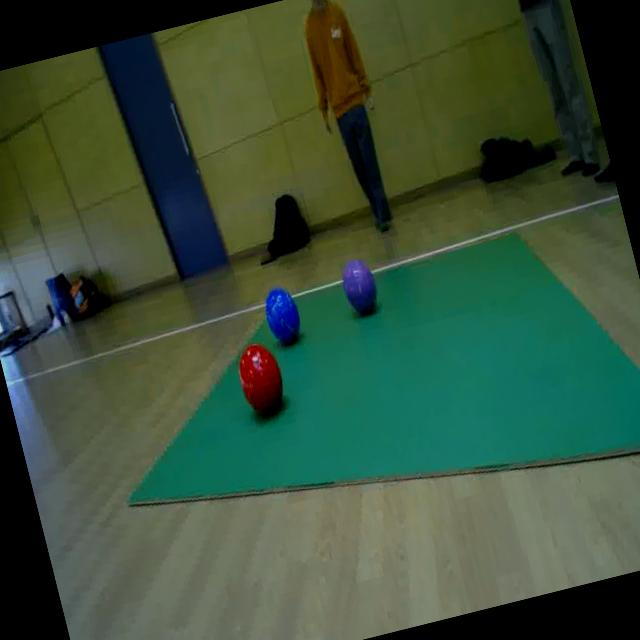blue_ball: (256, 280, 308, 350)
purple_ball: (332, 258, 386, 318)
red_ball: (230, 340, 292, 424)
